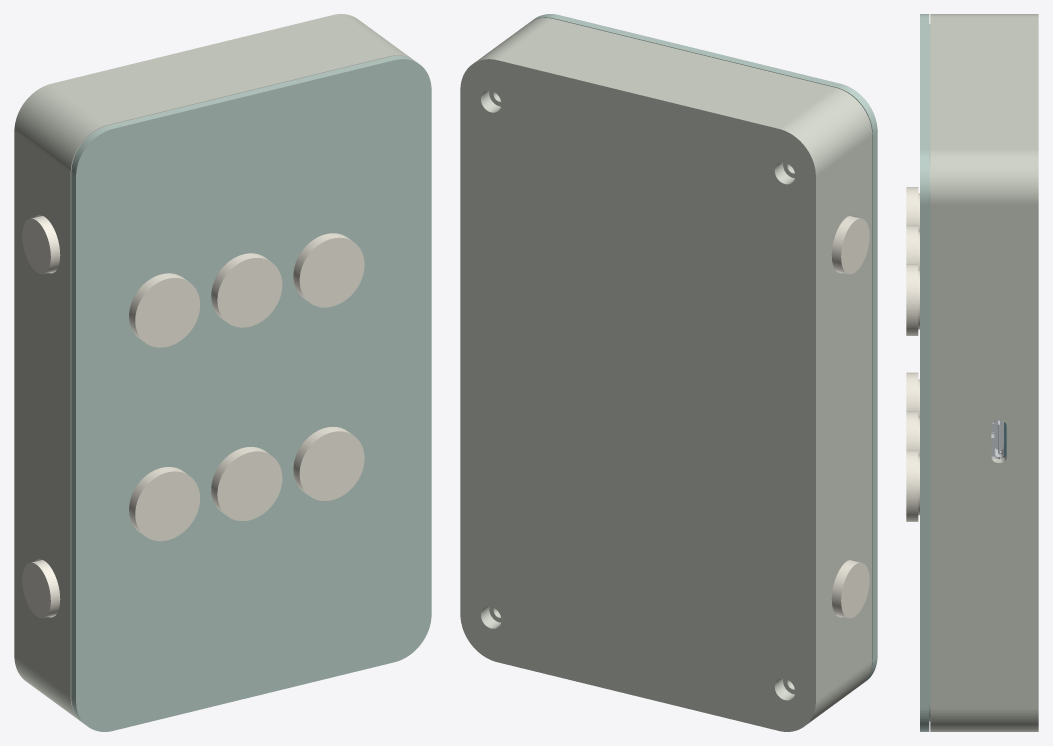
File: C01-assembled.glb
3 renders of one model, left to right at view 1: azimuth 30°, elevation 25°; view 2: azimuth 150°, elevation 25°; view 3: azimuth 270°, elevation 25°, orthographic. The views are drawn at different scales.
Parts seen in each view (by area): view 1: lid, base, cap_6, cap_5, cap_4, cap_1, cap_2, cap_3, sideKey (×2); view 2: base, lid, sideKey (×2); view 3: base, lid, cap_3, cap_6, cap_1, cap_2, cap_5, cap_4, STEP_part_672.
Part boxes in pixels (x1=…): lid: x1=71, y1=55, x2=431, y2=731; base: x1=14, y1=14, x2=411, y2=721; cap_6: x1=293, y1=233, x2=364, y2=307; cap_5: x1=211, y1=253, x2=282, y2=327; cap_4: x1=129, y1=273, x2=200, y2=347; cap_1: x1=129, y1=467, x2=200, y2=541; cap_2: x1=211, y1=447, x2=282, y2=520; cap_3: x1=293, y1=427, x2=364, y2=500; sideKey (×2): x1=22, y1=216, x2=60, y2=618; base: x1=460, y1=18, x2=872, y2=731; lid: x1=532, y1=14, x2=877, y2=683; sideKey (×2): x1=831, y1=216, x2=869, y2=618; base: x1=930, y1=14, x2=1038, y2=731; lid: x1=920, y1=14, x2=930, y2=731; cap_3: x1=906, y1=450, x2=919, y2=521; cap_6: x1=906, y1=264, x2=919, y2=335; cap_1: x1=906, y1=372, x2=919, y2=417; cap_2: x1=906, y1=411, x2=919, y2=456; cap_5: x1=906, y1=225, x2=919, y2=270; cap_4: x1=906, y1=187, x2=919, y2=231; STEP_part_672: x1=994, y1=420, x2=1003, y2=457.
Bounding box in the file's own units: 0.0886 × 0.14 × 0.029.
